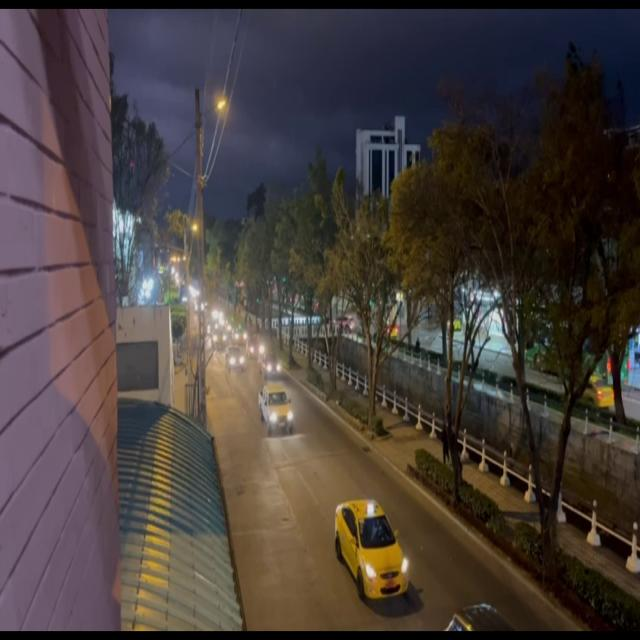CMT: (260, 389, 294, 436)
